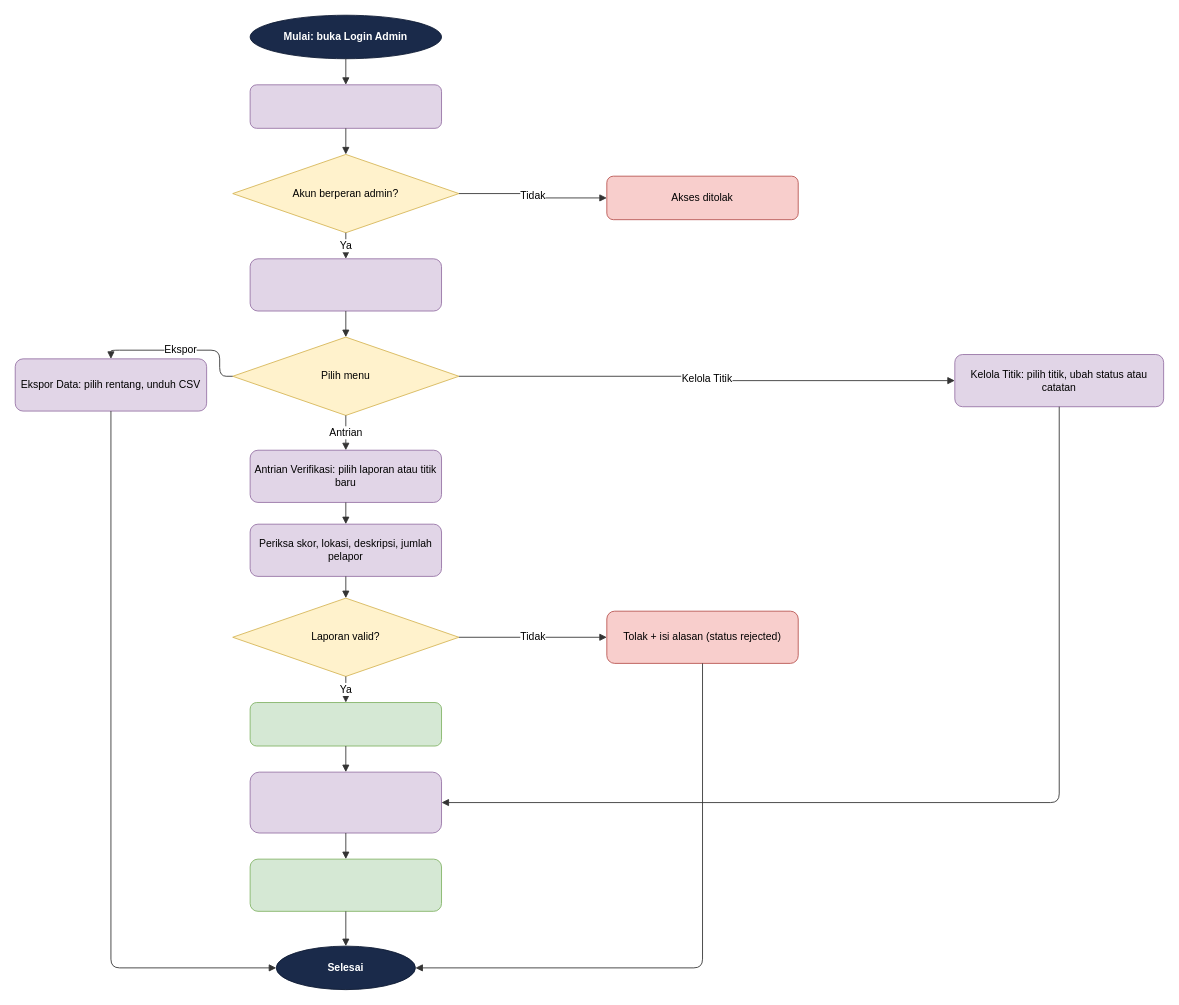
The diagram is 1179 pixels wide and 1005 high, and some of its shapes have lost their labels. The shapes that lost their labels are listed below. From the top down, each one's centre as x and y in pixels, then its label:
[345,106]: Login dengan akun admin
[345,284]: Dashboard: ringkasan titik, antrian, Skor Respons
[345,724]: Set status verified
[345,802]: Update status + catatan (ditinjau → tindakan → selesai)
[345,884]: Timeline publik dan Skor Respons diperbarui
